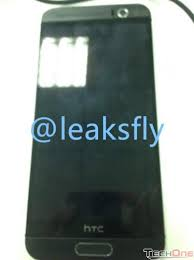htc: (20, 5, 168, 260)
